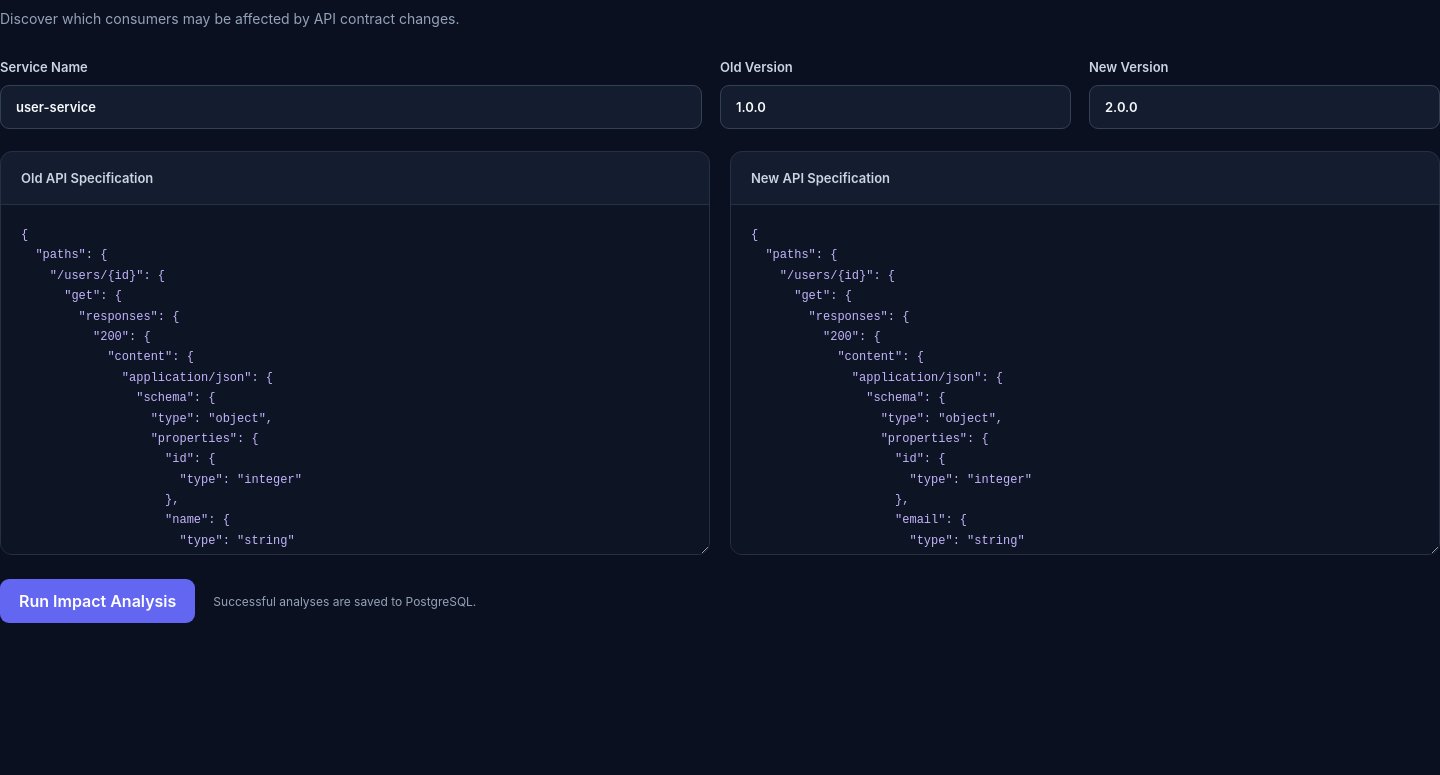
Test: ConsumerImpactPage › submits an analysis and displays the saved report ID
Click the button "Run Impact Analysis". click: (98, 601)
box: 0,579 -> 195,623
(page scrolled)
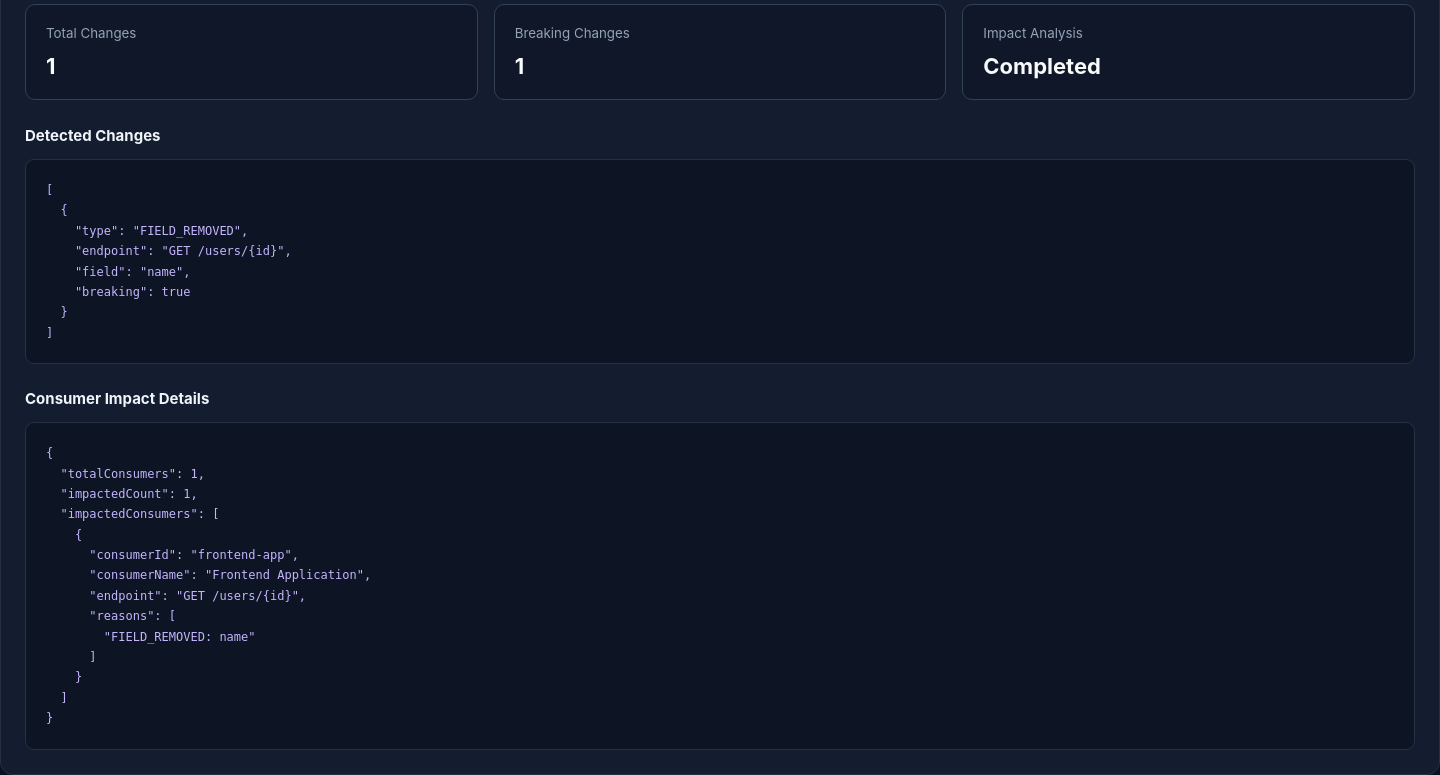
Now the text "Frontend Application" is shown, box 46,446 -> 371,725
